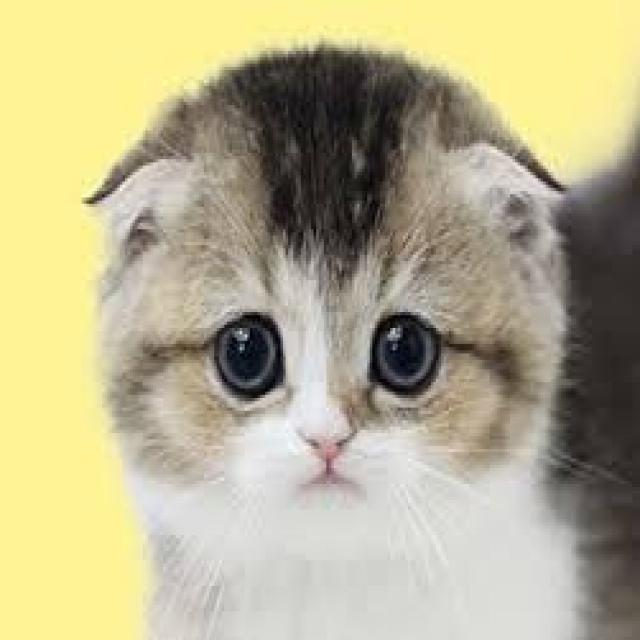cat-face: (73, 35, 626, 592)
